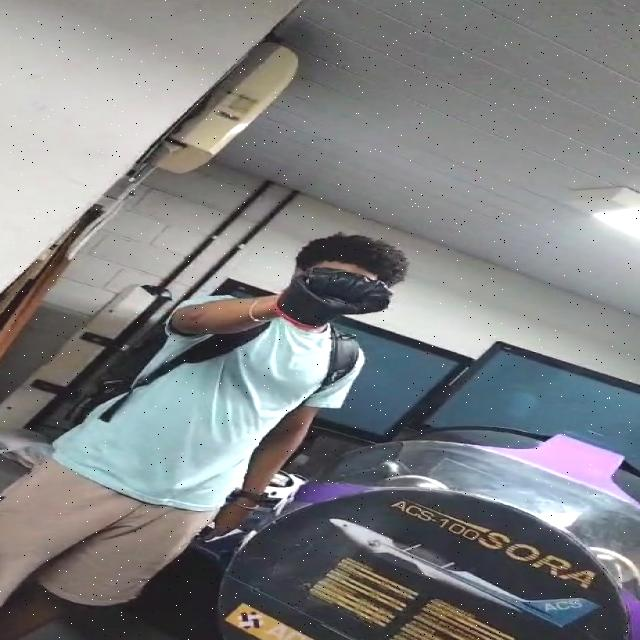Gloves: (276, 263, 391, 331)
